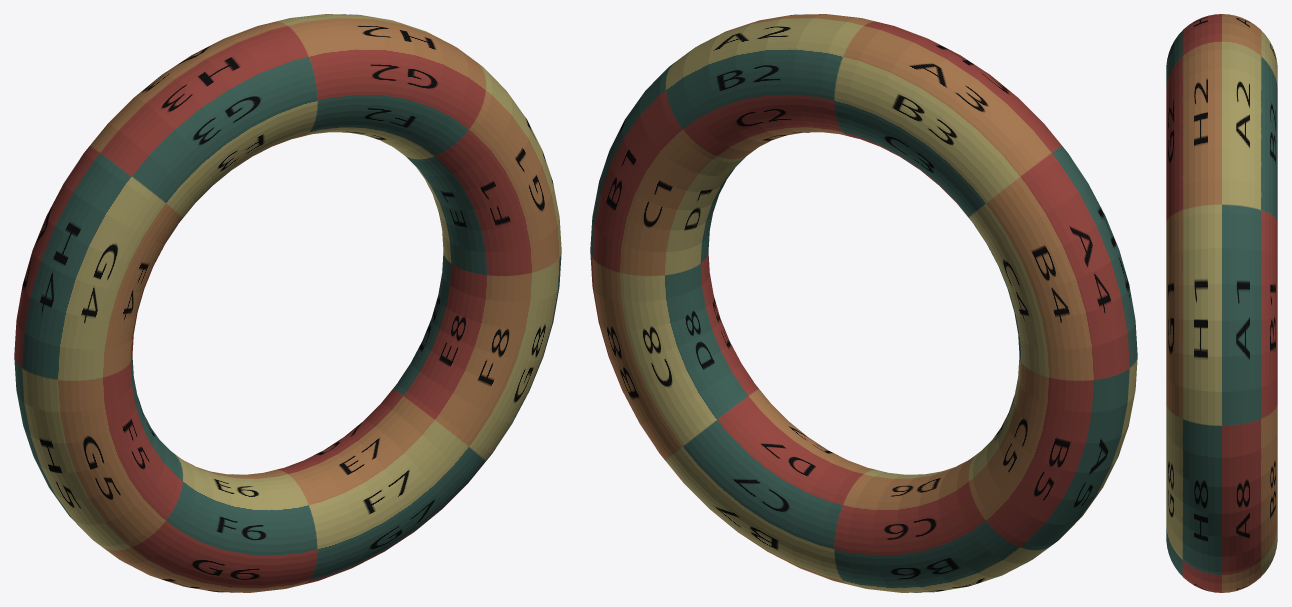
File: texture_torus_R16_r11.glb
The picture shows the model from 3 angles, left to right: view 1: azimuth 30°, elevation 25°; view 2: azimuth 150°, elevation 25°; view 3: azimuth 270°, elevation 25°; orthographic projection. The views are drawn at different scales.
Visible parts, largest first — view 1: world; view 2: world; view 3: world.
Part boxes in pixels (<box>): world: <box>14,14,561,592</box>; world: <box>590,14,1137,592</box>; world: <box>1166,14,1277,592</box>.
Bounding box in the file's own units: 25.6 × 25.55 × 4.92.
Materials: 1 (1 with a texture image).
